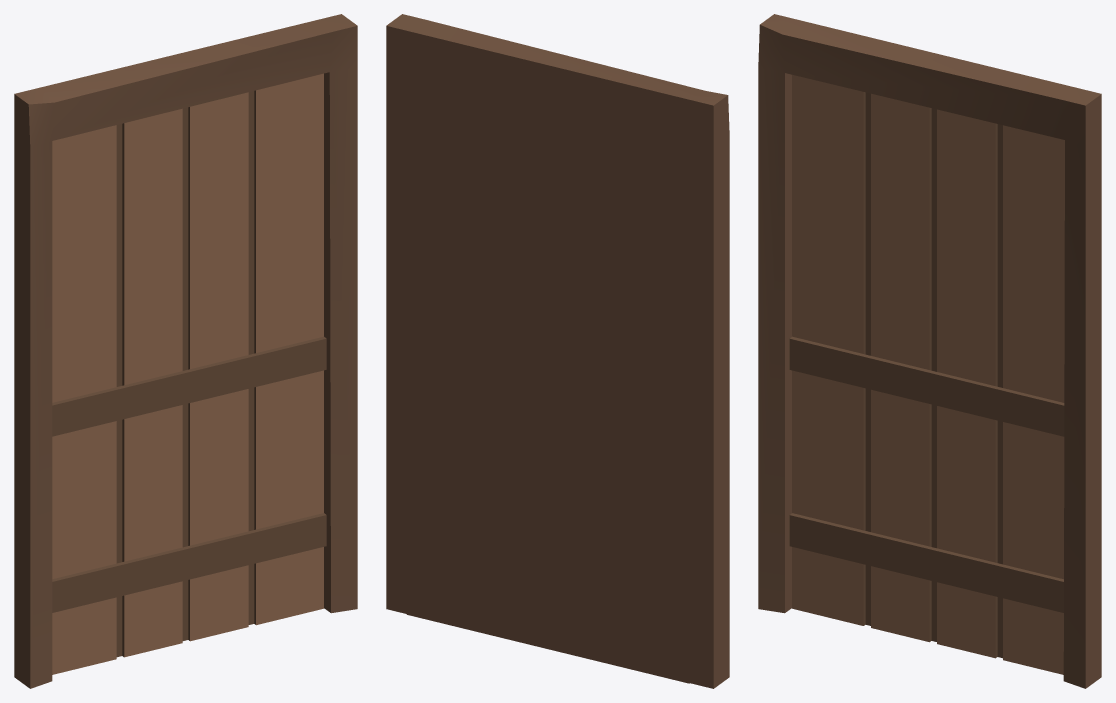
File: Door.fbx
The picture shows the model from 3 angles, left to right: view 1: azimuth 30°, elevation 25°; view 2: azimuth 150°, elevation 25°; view 3: azimuth 330°, elevation 25°; orthographic projection.
Parts seen in each view (by area): view 1: Box157; view 2: Box157; view 3: Box157.
Part boxes in pixels (x1,y1,x2,y2): Box157: [14, 14, 357, 688]; Box157: [386, 14, 729, 688]; Box157: [758, 14, 1101, 688].
Bounding box in the file's own units: 185 × 315 × 15.7.
1 material, 1 textured.
